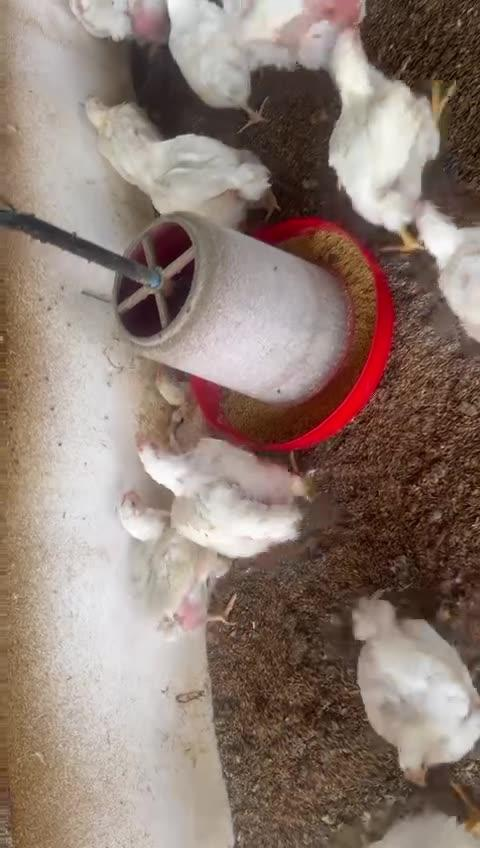AbNormal: (110, 485, 260, 642), (52, 75, 158, 188)
Normal: (320, 17, 458, 245), (330, 582, 480, 790), (135, 427, 325, 552), (120, 122, 285, 222), (158, 0, 280, 110)
